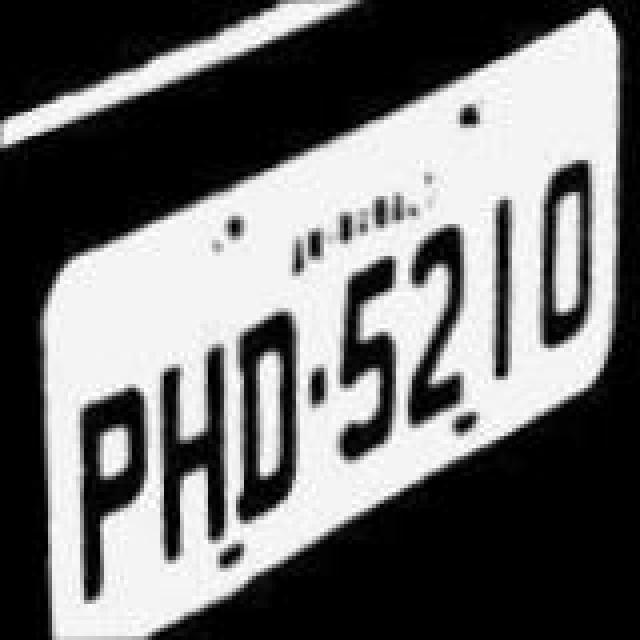1: (478, 174, 526, 418)
2: (392, 212, 476, 440)
5: (328, 242, 408, 470)
D: (220, 286, 304, 530)
H: (140, 310, 224, 558)
O: (516, 146, 604, 366)
P: (60, 344, 148, 608)
